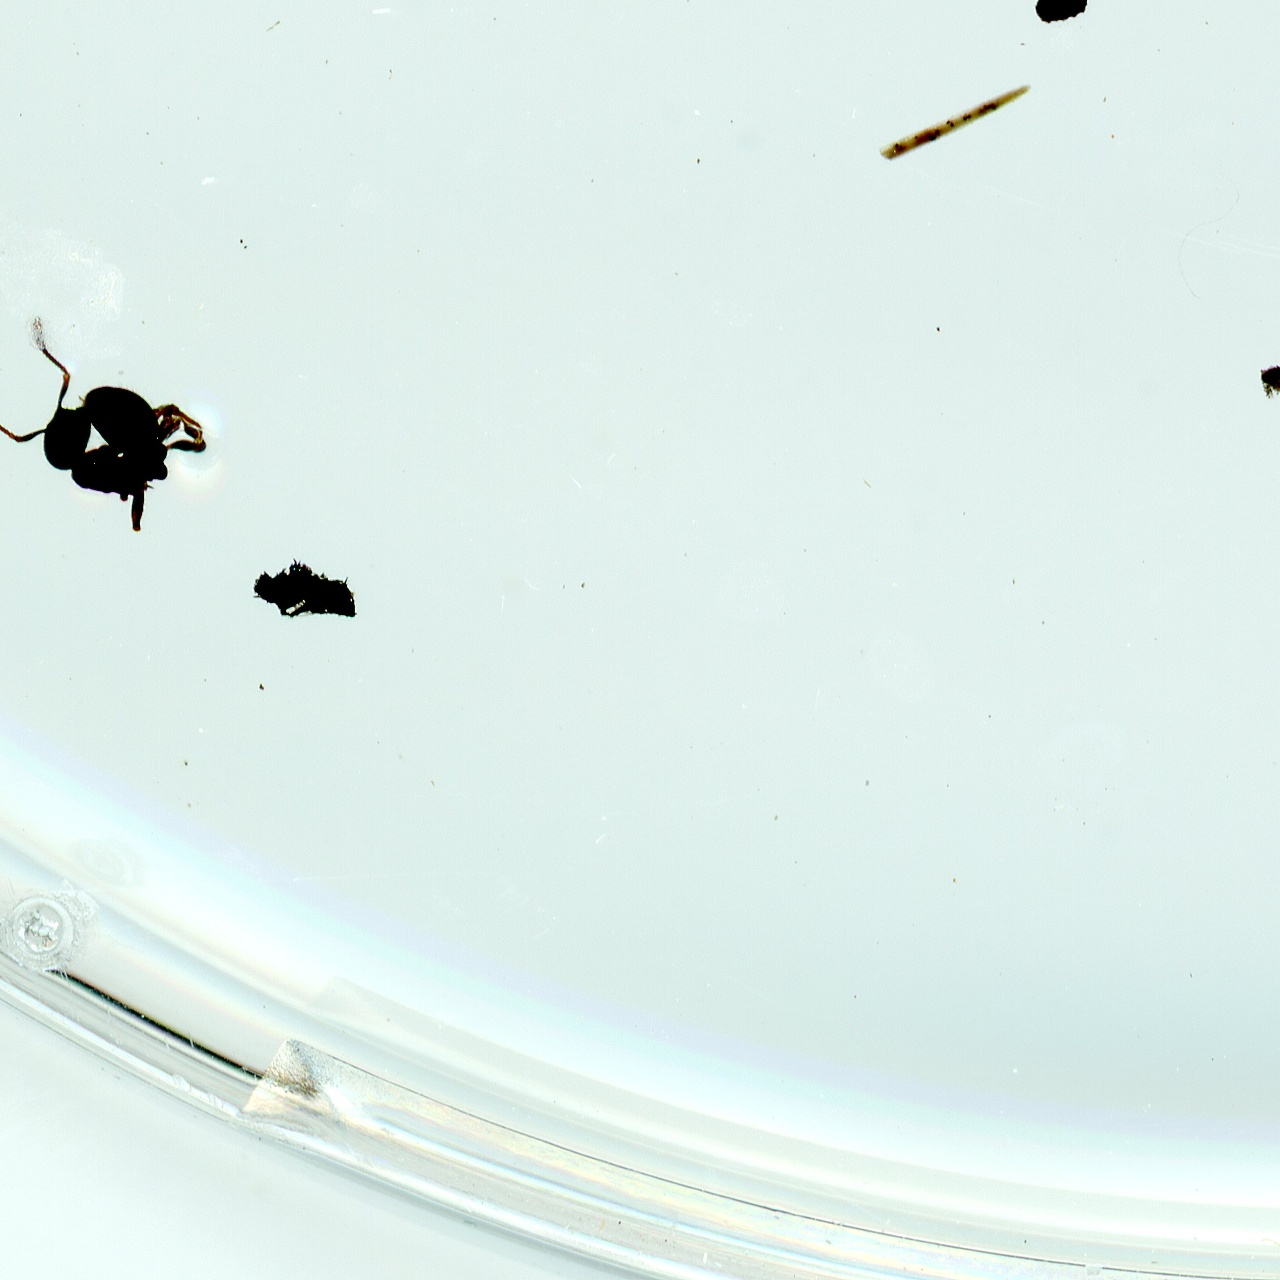arthropod: (0, 264, 249, 588)
